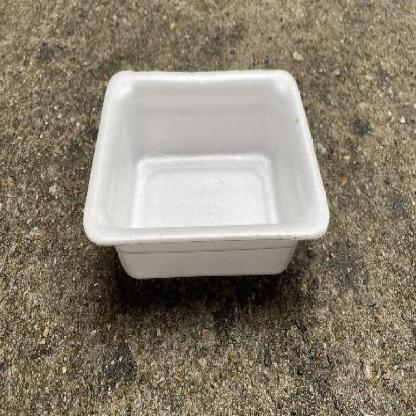Glass Cup: (82, 68, 329, 280), (83, 69, 329, 279)
